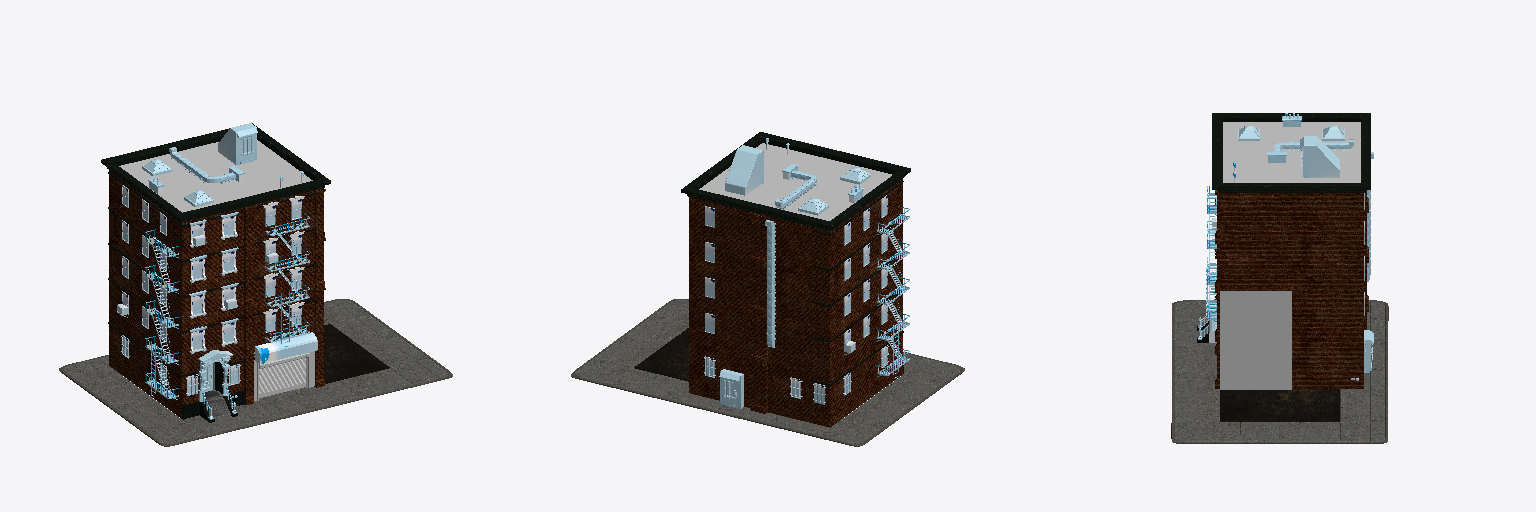
The picture shows the model from 3 angles: view 1: azimuth 30°, elevation 25°; view 2: azimuth 150°, elevation 25°; view 3: azimuth 270°, elevation 25°; orthographic projection.
Parts seen in each view (by area): view 1: Object_10, Object_14, Object_16, Object_6, Object_12, Object_8; view 2: Object_10, Object_16, Object_14, Object_12, Object_6, Object_8; view 3: Object_10, Object_16, Object_6, Object_14, Object_12, Object_8.
Part boxes in pixels (x1,y1,x2,y2): Object_10: (109, 170, 325, 422); Object_14: (117, 123, 317, 419); Object_16: (59, 299, 452, 446); Object_6: (119, 140, 314, 400); Object_12: (101, 123, 330, 376); Object_8: (314, 324, 389, 386); Object_10: (689, 179, 903, 427); Object_16: (571, 299, 964, 446); Object_14: (703, 138, 909, 408); Object_12: (681, 132, 910, 385); Object_6: (699, 143, 891, 220); Object_8: (634, 328, 688, 381); Object_10: (1197, 190, 1368, 388); Object_16: (1171, 300, 1388, 443); Object_6: (1220, 122, 1360, 389); Object_14: (1198, 113, 1373, 380); Object_12: (1212, 113, 1370, 192); Object_8: (1220, 389, 1339, 422).
Bounding box in the file's own units: 0.1117 × 0.0853 × 0.0718.
6 materials, 5 textured.